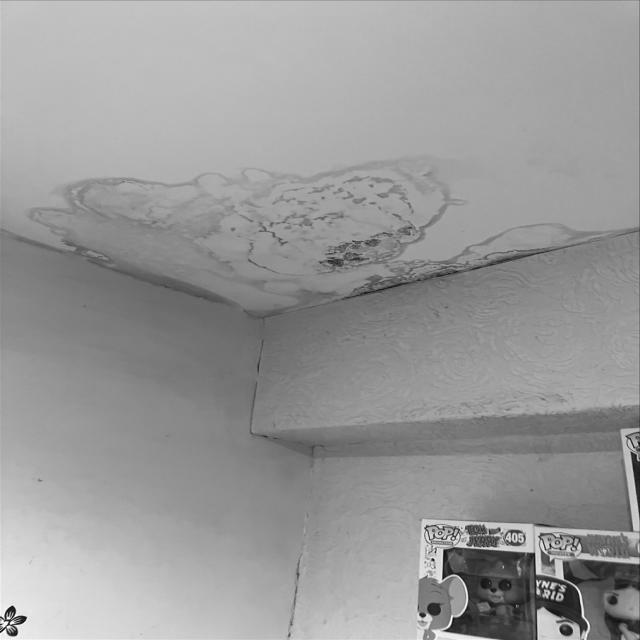stain marks: (0, 125, 640, 325), (379, 390, 640, 434), (260, 543, 322, 640)
